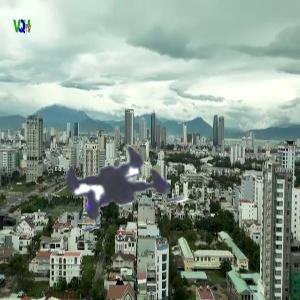drone: (18, 89, 215, 286)
